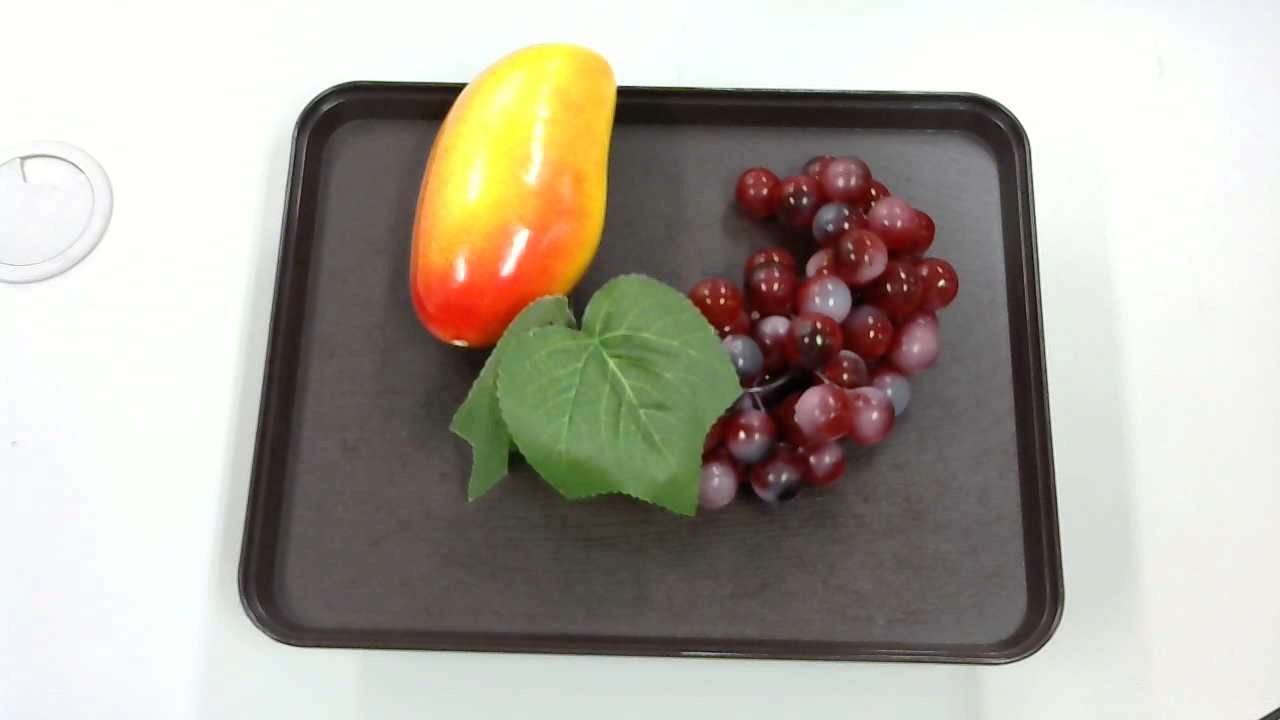grape: (440, 149, 962, 522)
red mango: (412, 35, 618, 356)
